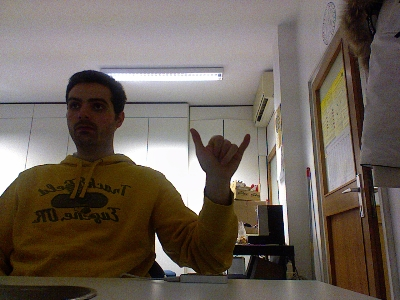六六六: (187, 127, 252, 178)
